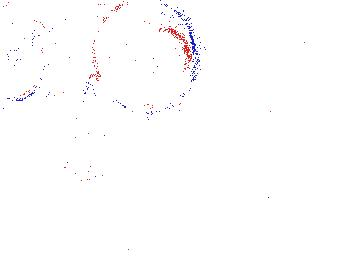moon jellyfish: (92, 3, 195, 111), (72, 73, 120, 187), (1, 1, 47, 102), (107, 123, 158, 209)
